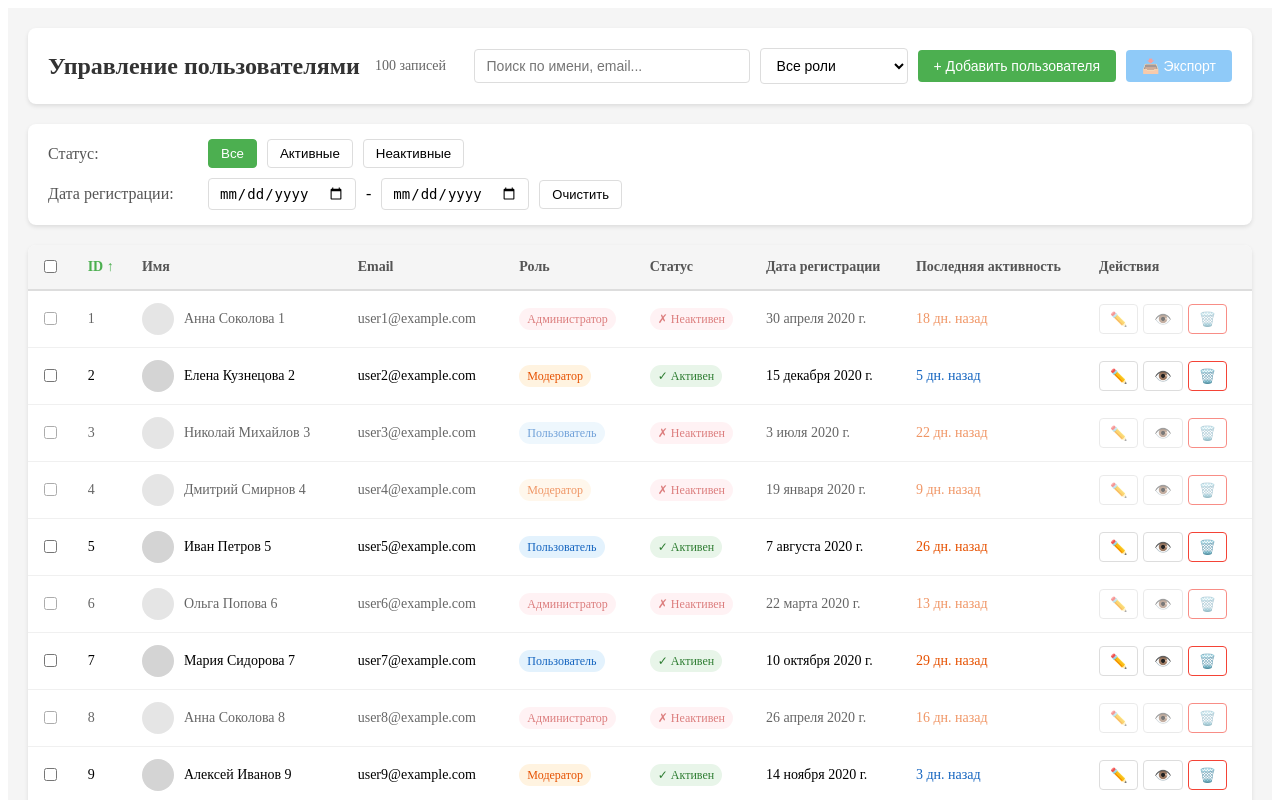
Test case: UserTable › Очистка фильтров › должен очистить все фильтры при отображении сообщения "Нет данных"
Type "НесуществующееИмя999" into the field with class "search-input" at (612, 66), box [474,49,750,83]
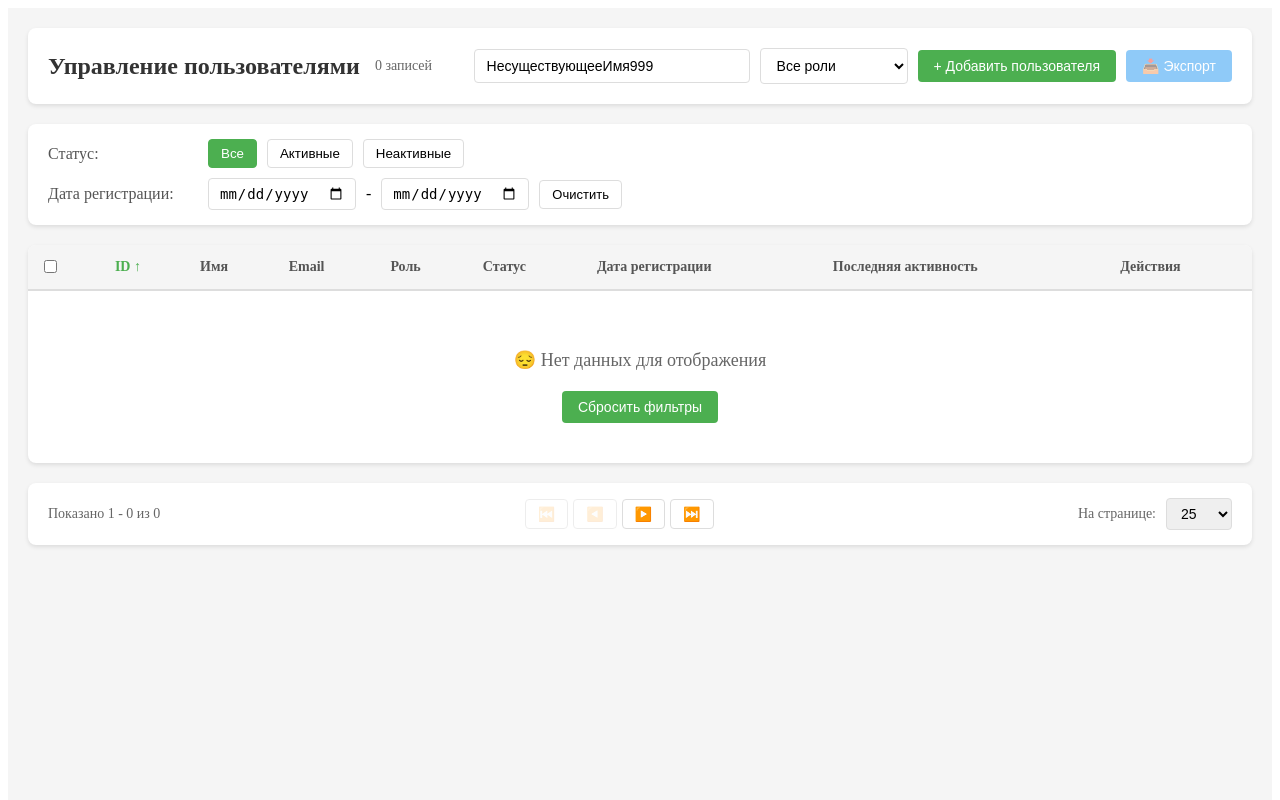
Now the element with class "no-data" is shown, box [514,350,766,423]
Click the button "Сбросить фильтры" at (640, 407), box [562,391,718,423]
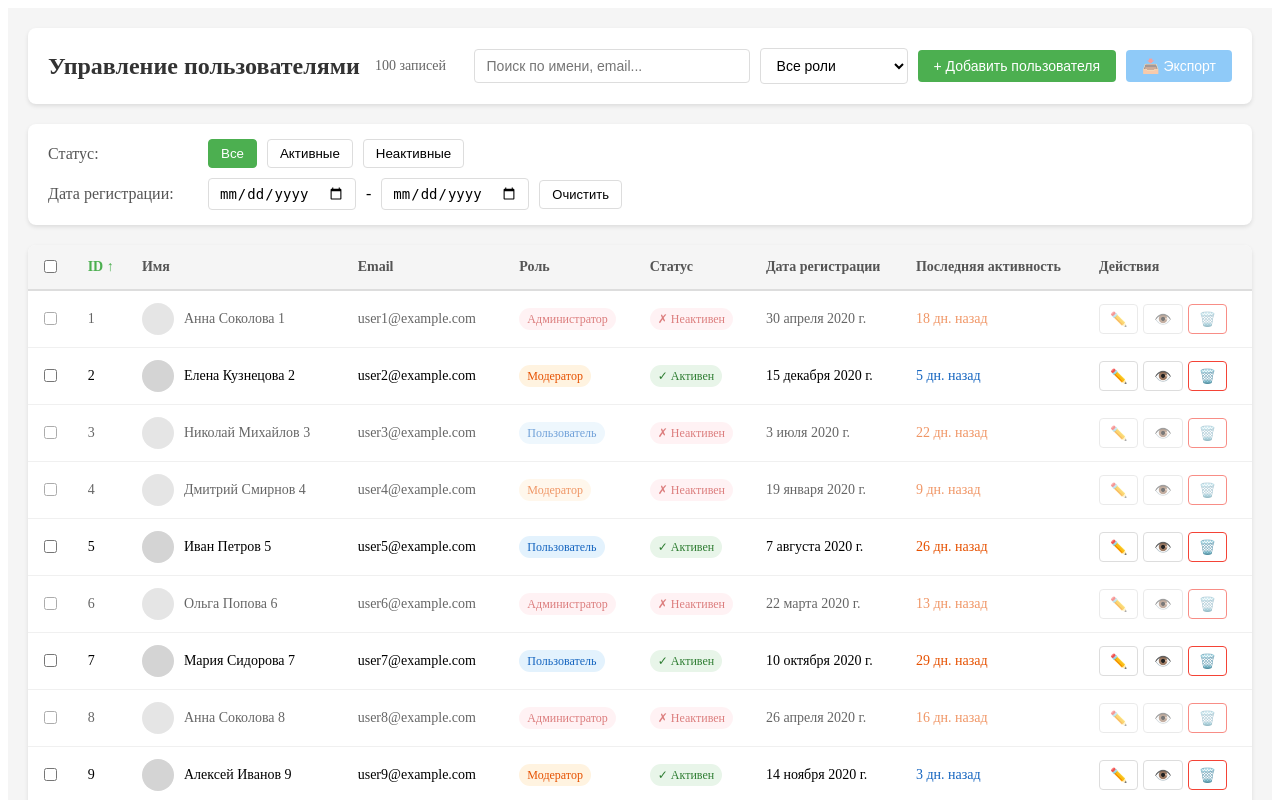
Now the field with class "search-input" is empty, box [474,49,750,83]
